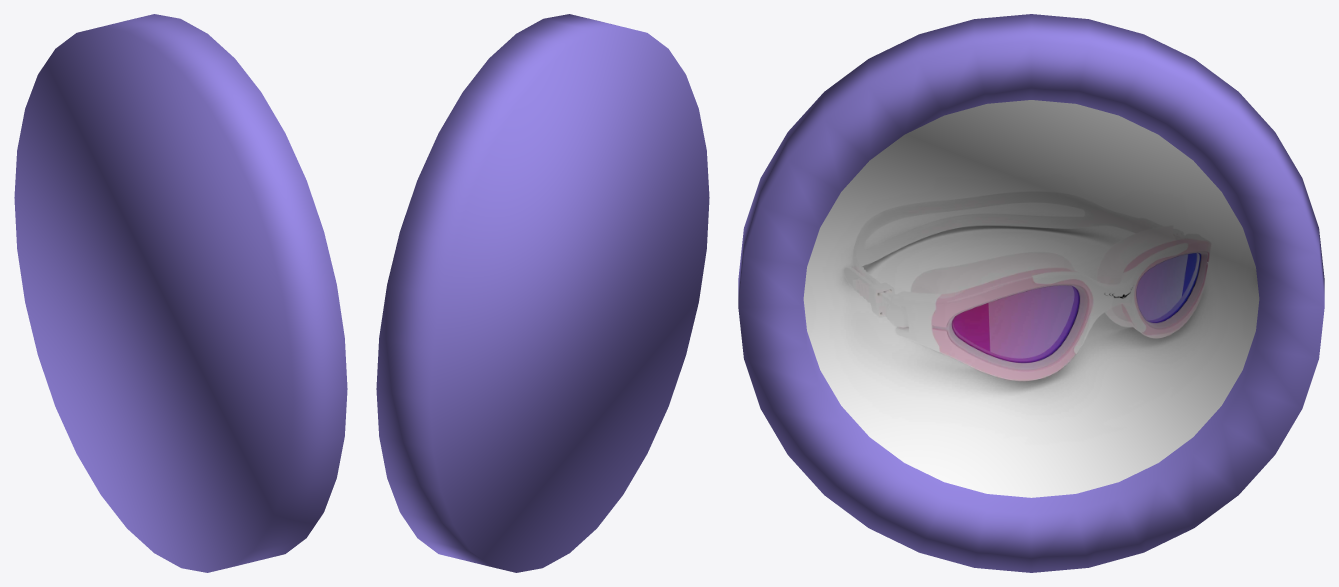
The picture shows the model from 3 angles, left to right: view 1: azimuth 30°, elevation 25°; view 2: azimuth 150°, elevation 25°; view 3: azimuth 270°, elevation 25°; orthographic projection. The views are drawn at different scales.
Parts seen in each view (by area): view 1: Circle.002; view 2: Circle.002; view 3: Circle.002.
Part boxes in pixels (x1,y1,x2,y2): Circle.002: (14,14,347,572); Circle.002: (376,14,709,572); Circle.002: (738,14,1324,572).
Size of the model in its own units: 0.2224 by 2 by 2.
Materials: 2 (1 with a texture image).
